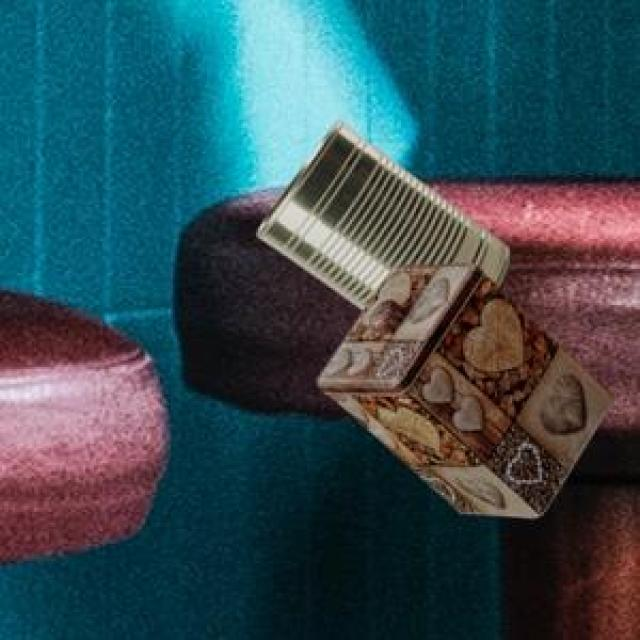logam: (315, 261, 611, 515), (255, 116, 507, 308)
